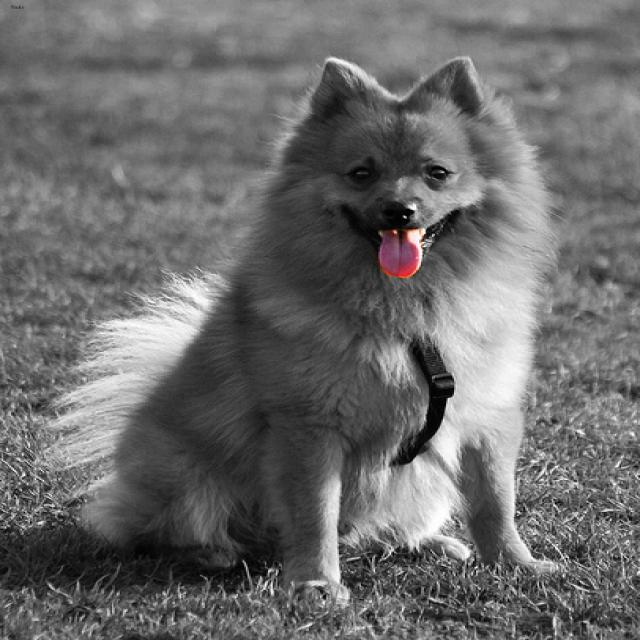dog-keeshond: (61, 42, 574, 611)
